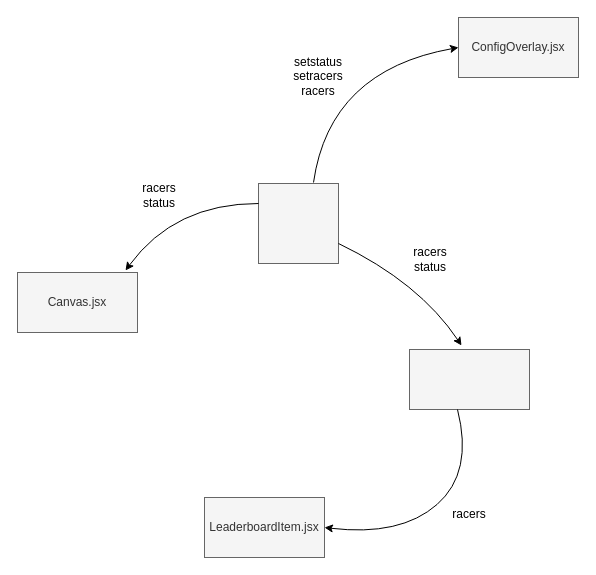
The diagram is 596 pixels wide and 575 high, and some of its shapes have lost their labels. Each missing label, with the centre of its shape:
Index.jsx: (x=298, y=223)
Leaderboard.jsx: (x=469, y=379)
